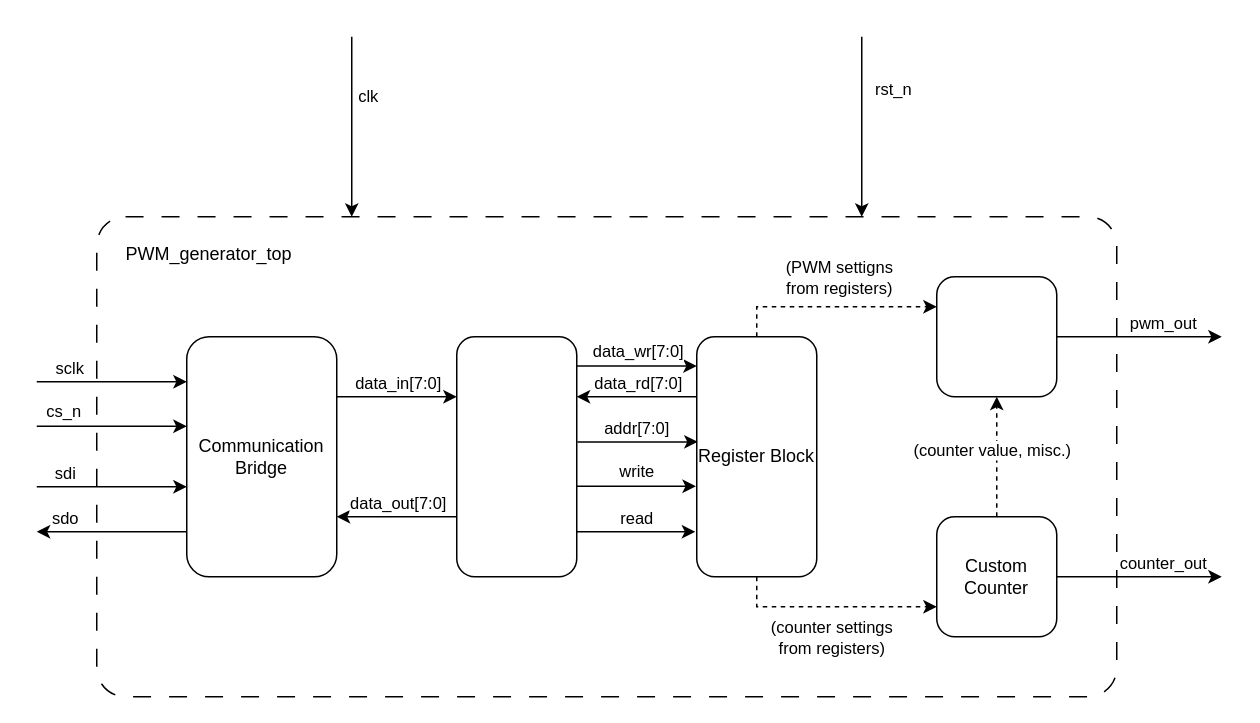
Some shapes in this 1260 by 723 pixel diagram are drawn without their labels. Each missing label, with the centre of its shape:
"Instruction Decoder" goes at point 516,456.
"PWM Generator" goes at point 996,336.
